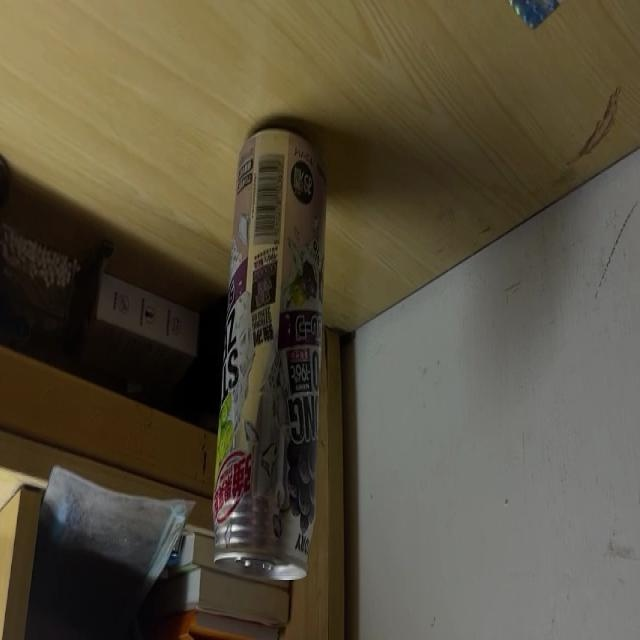Liquor: (213, 128, 326, 582)
